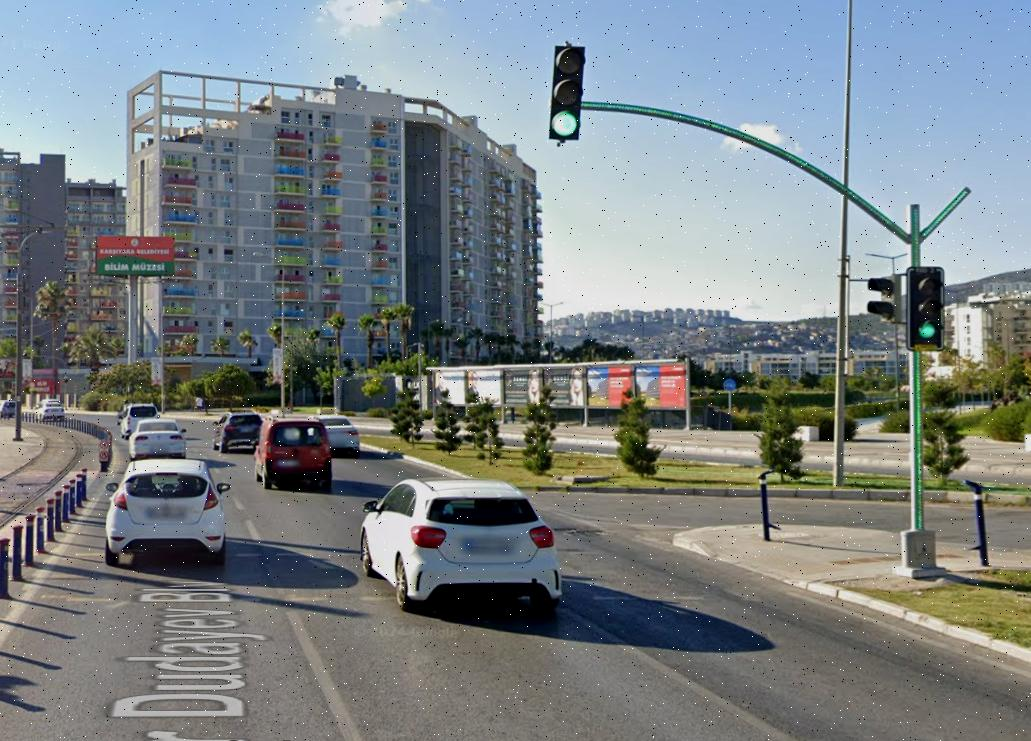greenlight: (910, 263, 944, 347), (553, 48, 581, 138)
